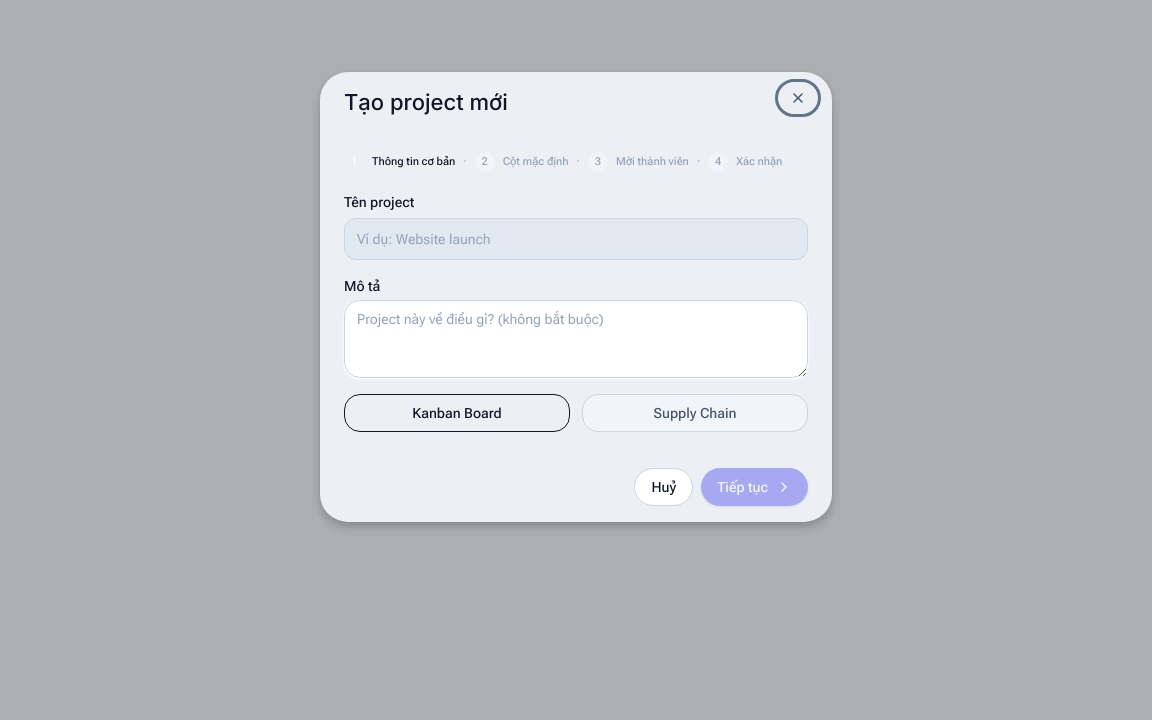
Scenario: CreateProjectWizard › starts on the basics step with Next disabled until a name is typed
This screenshot has width=1152, height=720.
expect the text "Thông tin cơ bản" is shown: met, box x1=372 y1=154 x2=455 y2=170
expect the button "Tiếp tục" is disabled: met, box x1=701 y1=468 x2=808 y2=506
Type "Website launch" into the field labelled "Tên project" at (576, 239), box x1=344 y1=218 x2=808 y2=260
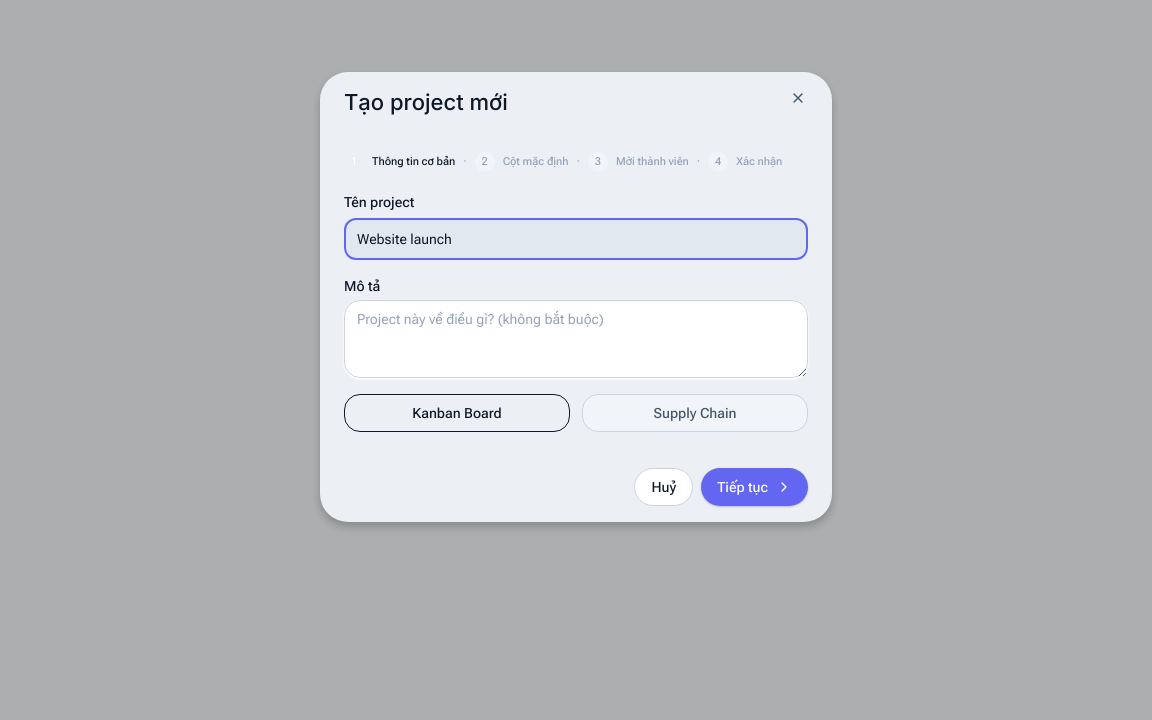
expect the button "Tiếp tục" is enabled: met, box x1=701 y1=468 x2=808 y2=506
